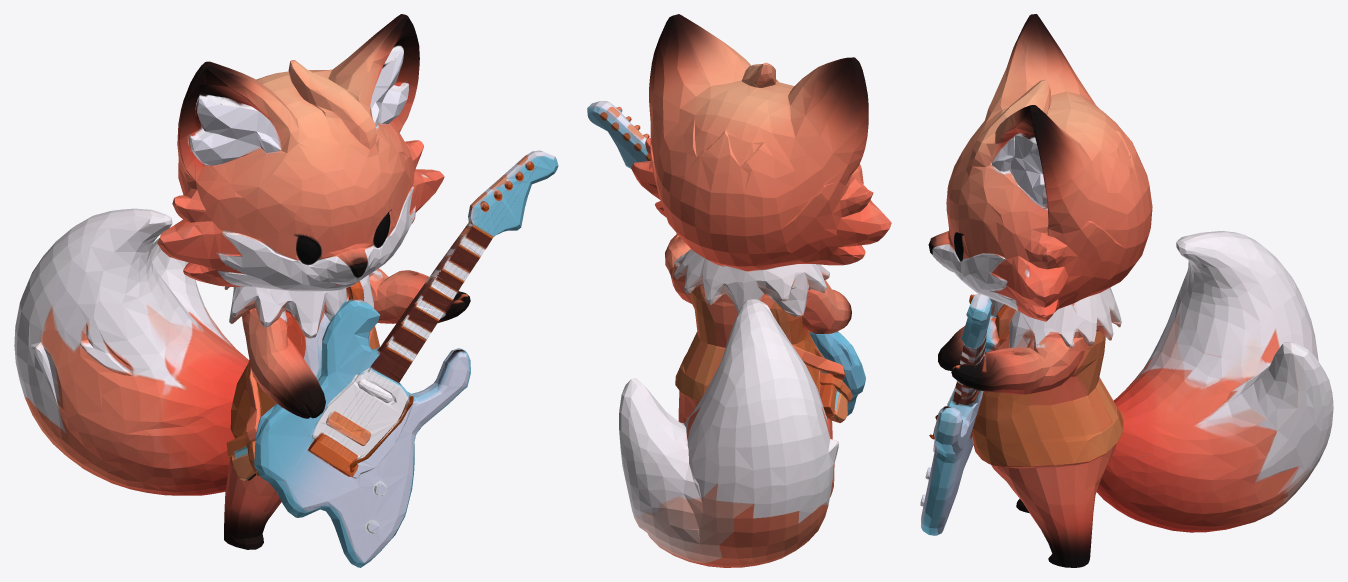
3 views of the same model, side by side, from view 1: azimuth 30°, elevation 25°; view 2: azimuth 150°, elevation 25°; view 3: azimuth 270°, elevation 25° (orthographic). The views are drawn at different scales.
Visible parts, largest first — view 1: FixedOriginal, FurColor, FurPaws; view 2: FurColor, FixedOriginal, FurPaws; view 3: FurColor, FixedOriginal, FurPaws.
Boxes of the visible parts, box(x1,y1,x2,y2) form: FixedOriginal: box(14, 14, 558, 567); FurColor: box(24, 35, 532, 507); FurPaws: box(224, 262, 470, 549); FurColor: box(591, 26, 891, 567); FixedOriginal: box(587, 14, 881, 562); FurPaws: box(666, 233, 851, 439); FurColor: box(932, 37, 1298, 530); FixedOriginal: box(920, 14, 1333, 535); FurPaws: box(938, 326, 1094, 567).
Size of the model in its own units: 1.62 by 1.9 by 1.5.
3 materials, 3 textured.
